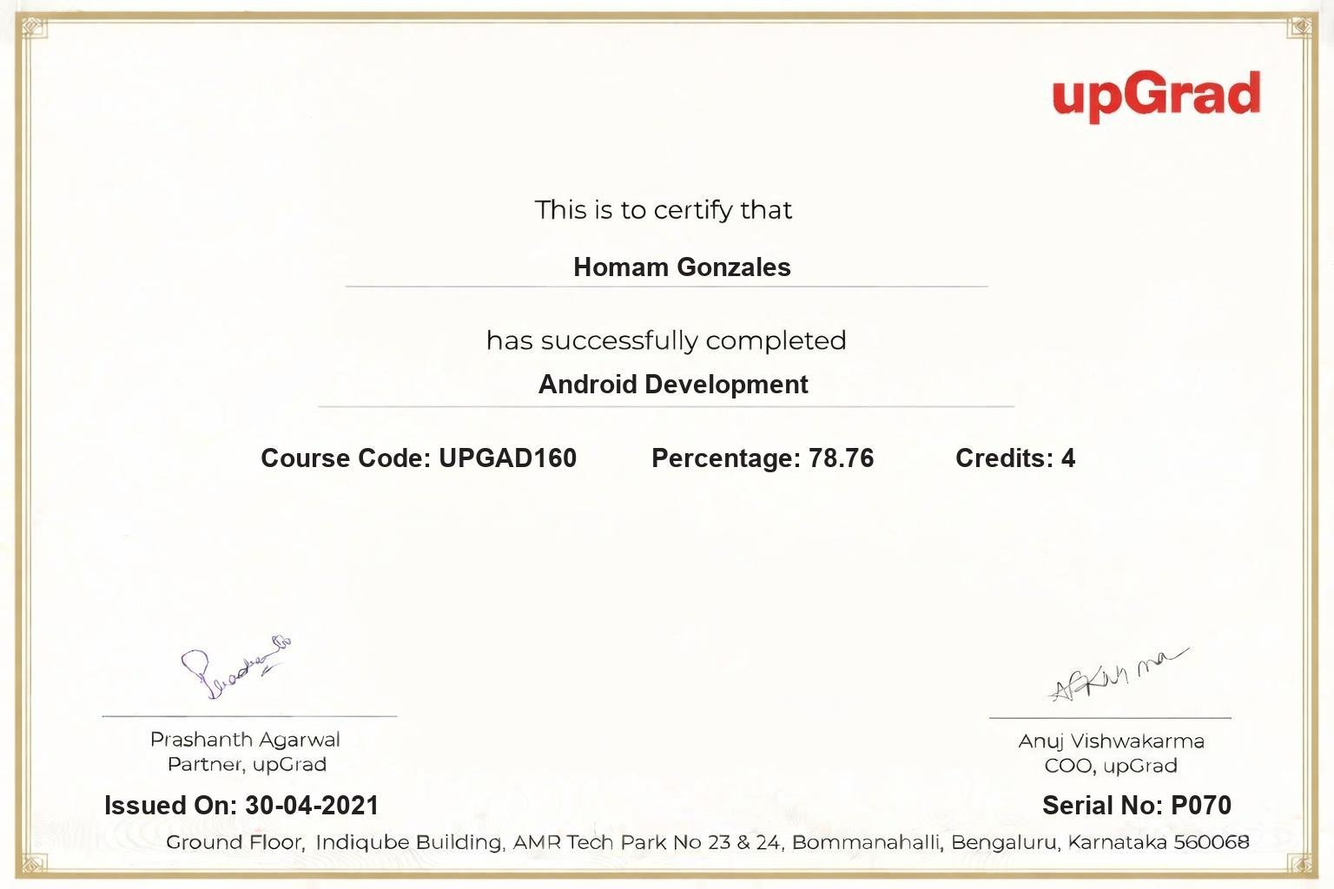Course Code: (433, 435, 579, 482)
Course Name: (533, 361, 826, 407)
Credits: (1055, 440, 1088, 480)
Issued On: (242, 786, 388, 824)
Percentage: (805, 440, 884, 478)
Serial No: (1167, 780, 1241, 827)
Student Name: (565, 242, 799, 286)
